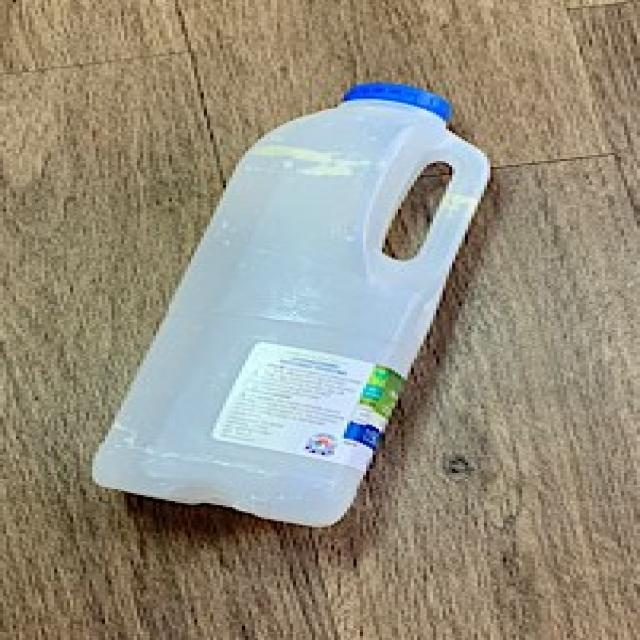HDPE Plastic: (84, 76, 498, 533)
